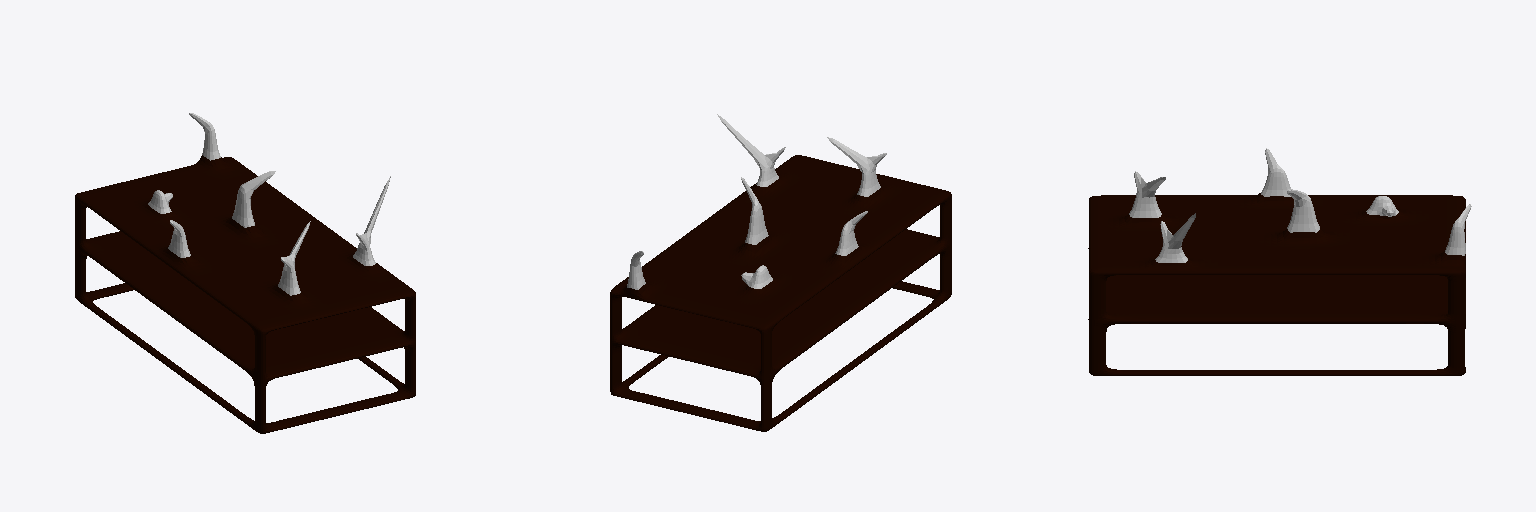
File: tablebasse2_déformée.obj
The picture shows the model from 3 angles: view 1: azimuth 30°, elevation 25°; view 2: azimuth 150°, elevation 25°; view 3: azimuth 270°, elevation 25°; orthographic projection.
Visible parts, largest first — view 1: Cube_Cube.001; view 2: Cube_Cube.001; view 3: Cube_Cube.001.
Boxes of the visible parts, x1,y1,x2,y2 form: Cube_Cube.001: [75, 113, 415, 433]; Cube_Cube.001: [610, 114, 951, 431]; Cube_Cube.001: [1088, 148, 1471, 375].
Size of the model in its own units: 2.34 by 2.13 by 4.17.